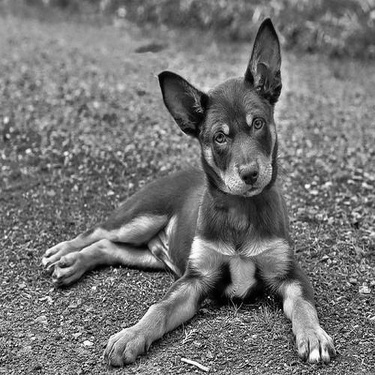dog: (27, 12, 345, 372)
